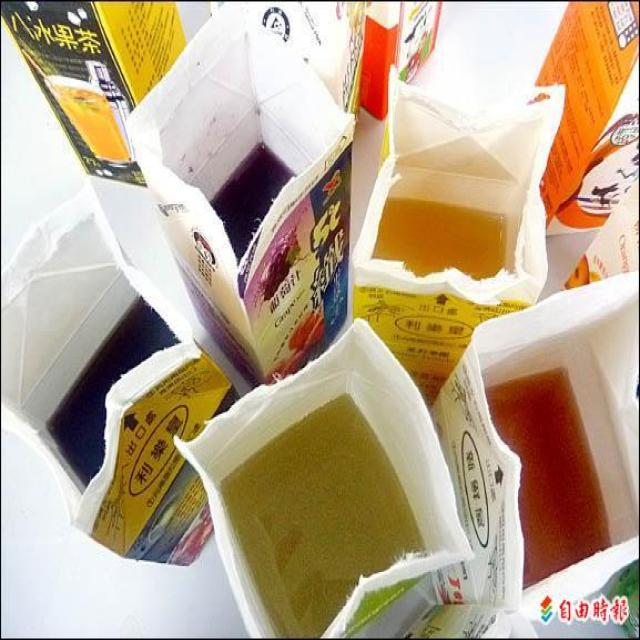cardboard: (161, 320, 472, 640), (113, 4, 374, 356), (0, 181, 222, 570), (437, 277, 640, 616), (346, 73, 560, 338), (3, 0, 188, 181), (535, 0, 640, 286)
